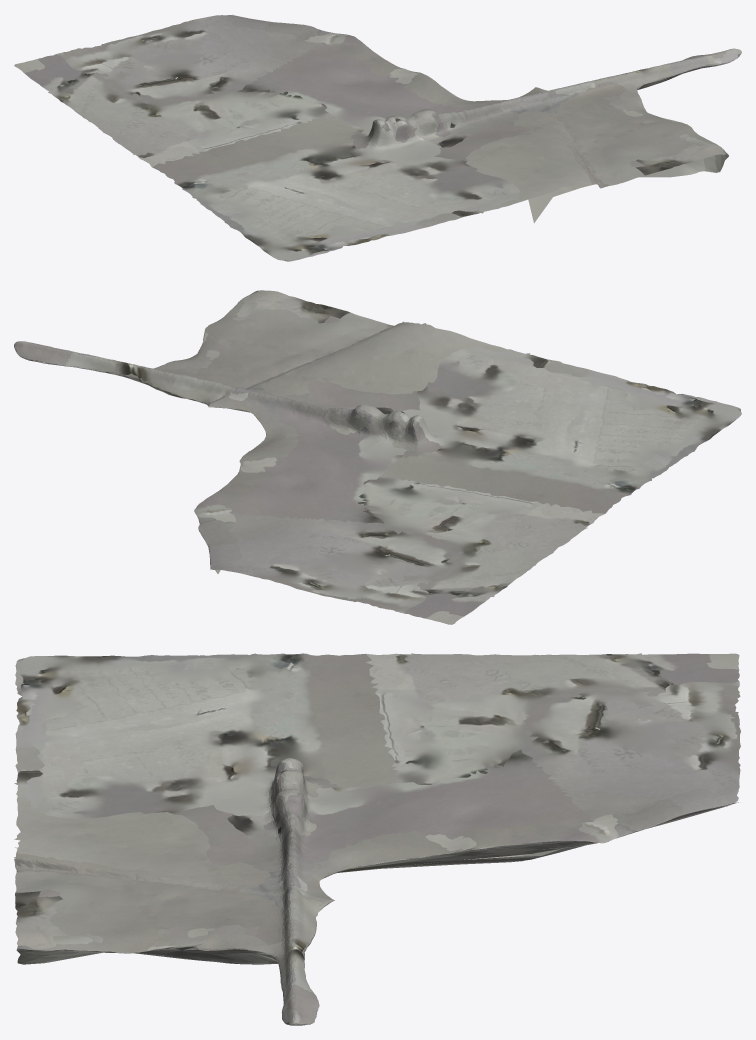
Rendered from textured_cleaned.obj.
3 views of the same model, one above another, from view 1: azimuth 30°, elevation 25°; view 2: azimuth 150°, elevation 25°; view 3: azimuth 270°, elevation 25° (orthographic). The views are drawn at different scales.
Parts seen in each view (by area): view 1: fixed_unnamed_object_3; view 2: fixed_unnamed_object_3; view 3: fixed_unnamed_object_3.
Part boxes in pixels (left/top/right/bottom): fixed_unnamed_object_3: left=14, top=14, right=741, bottom=261; fixed_unnamed_object_3: left=14, top=290, right=741, bottom=624; fixed_unnamed_object_3: left=14, top=653, right=740, bottom=1025.
Size of the model in its own units: 0.1552 by 0.011 by 0.1293.
Materials: 1 (1 with a texture image).
